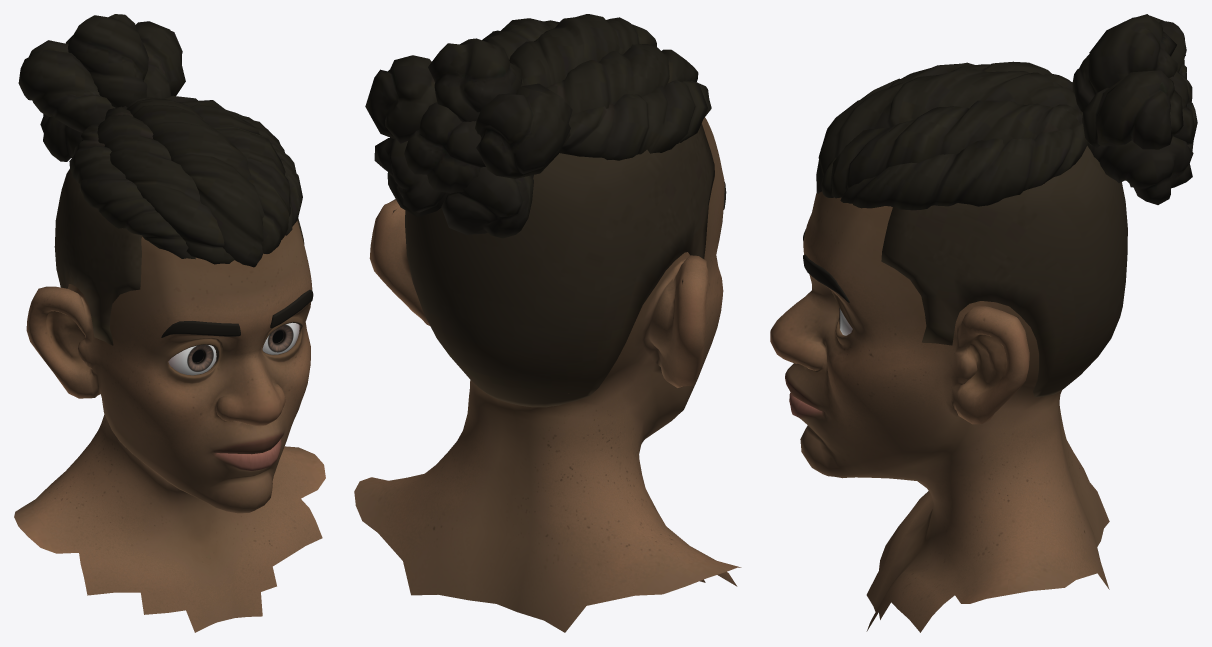
File: ship_snow.glb
3 views of the same model, side by side, from view 1: azimuth 30°, elevation 25°; view 2: azimuth 150°, elevation 25°; view 3: azimuth 270°, elevation 25° (orthographic). The views are drawn at different scales.
Parts seen in each view (by area): view 1: GEO-snow-head, GEO-snow-hair_base, GEO-snow-eyes, GEO-snow-eyebrows; view 2: GEO-snow-hair_base, GEO-snow-head; view 3: GEO-snow-hair_base, GEO-snow-head, GEO-snow-eyebrows.
Boxes of the visible parts, box(x1,y1,x2,y2) form: GEO-snow-head: box(14, 221, 325, 632); GEO-snow-hair_base: box(18, 14, 304, 345); GEO-snow-eyes: box(168, 322, 299, 375); GEO-snow-eyebrows: box(161, 289, 313, 337); GEO-snow-hair_base: box(365, 14, 714, 407); GEO-snow-head: box(354, 117, 741, 632); GEO-snow-hair_base: box(816, 14, 1197, 397); GEO-snow-head: box(770, 191, 1109, 632); GEO-snow-eyebrows: box(803, 229, 849, 302).
Size of the model in its own units: 0.3091 by 0.5191 by 0.3398.
Materials: 7 (4 with a texture image).
